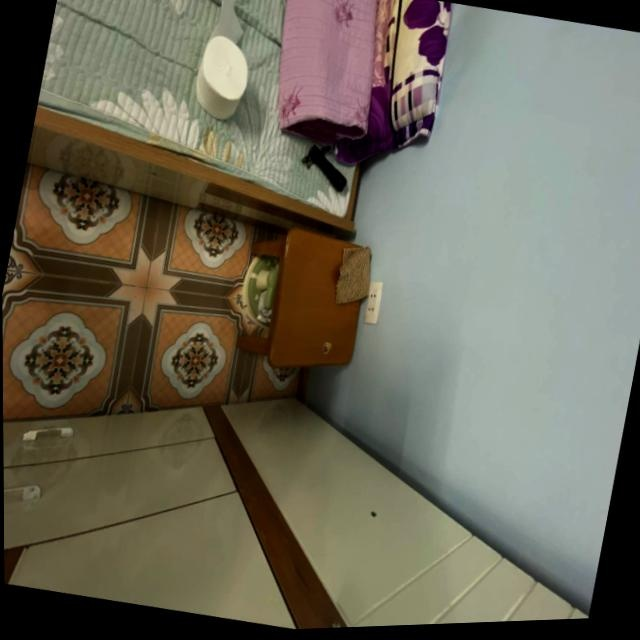outlet: (362, 278, 385, 325)
